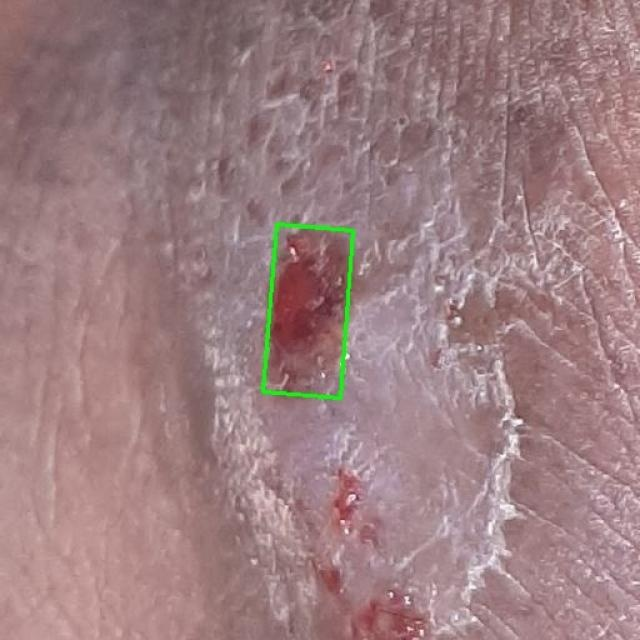Contact Dermatitis: (263, 225, 353, 398)
